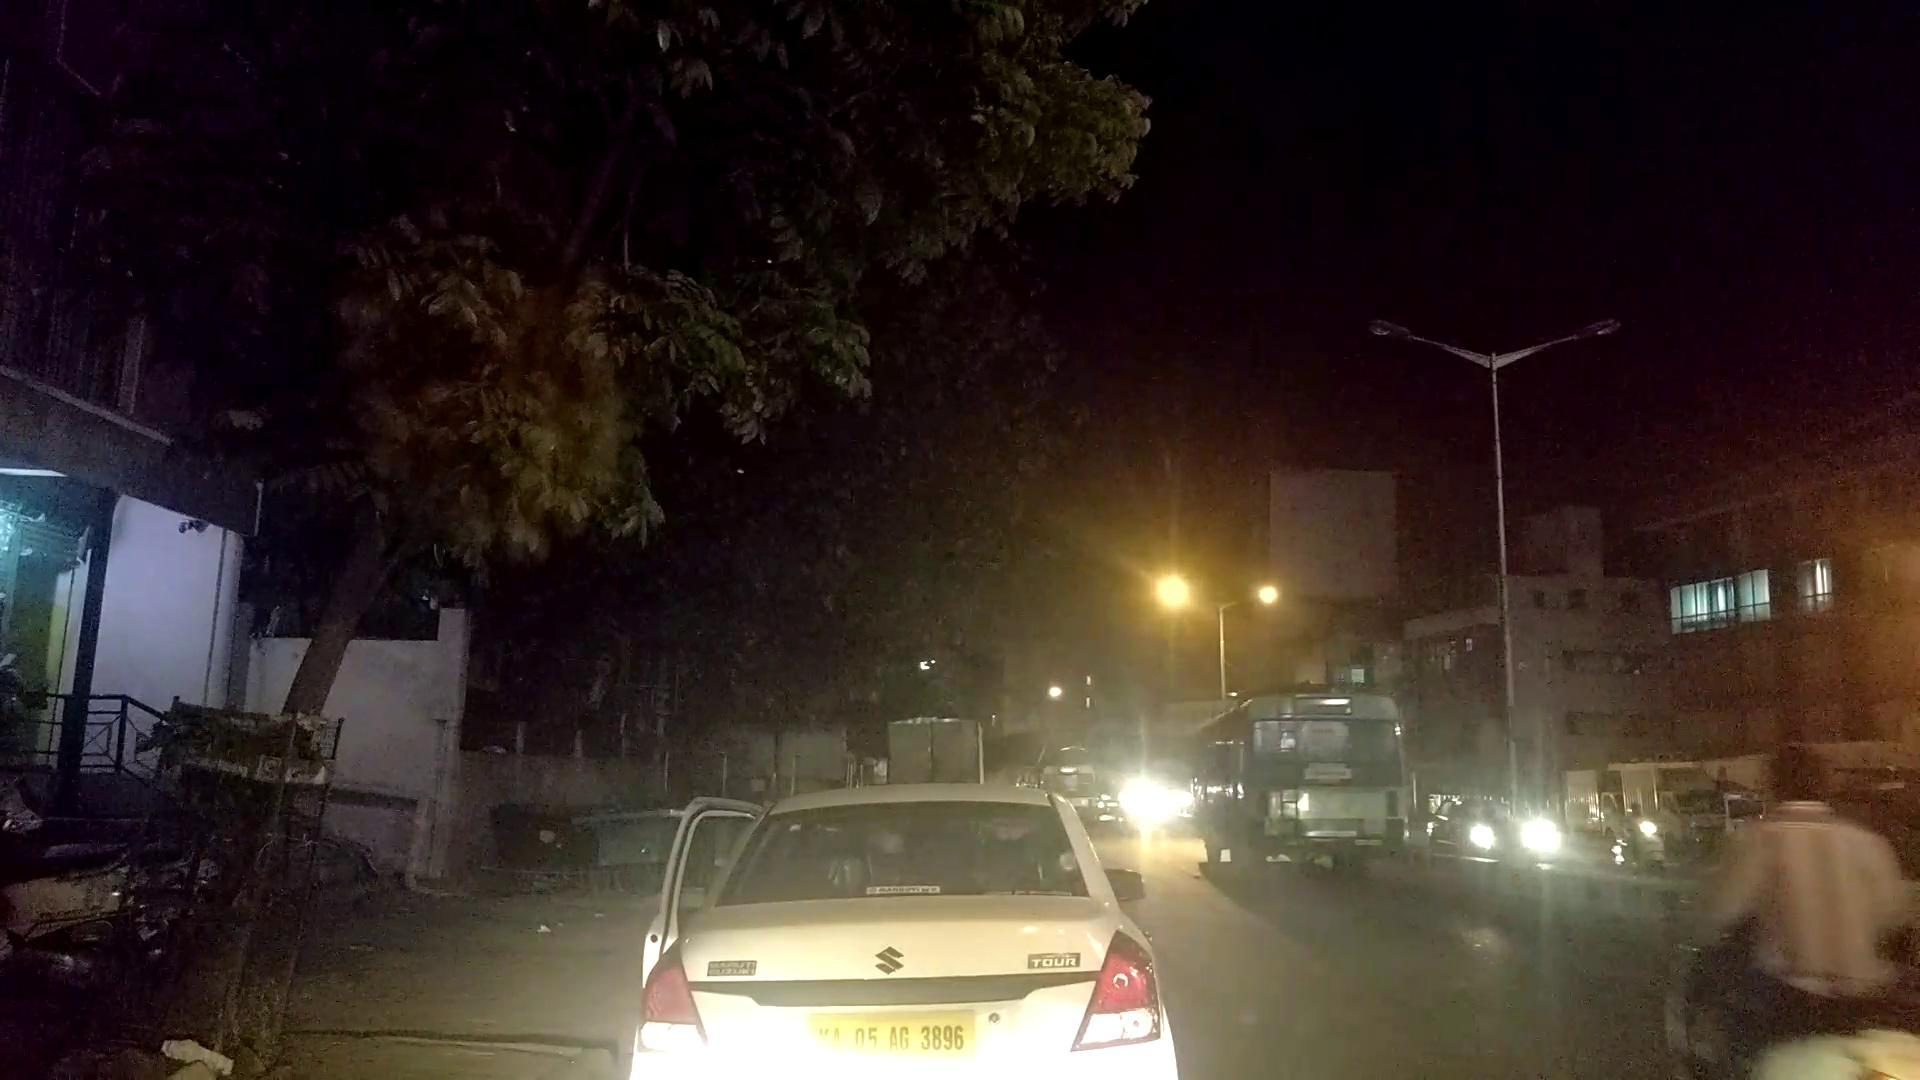on: (1120, 531, 1439, 843)
